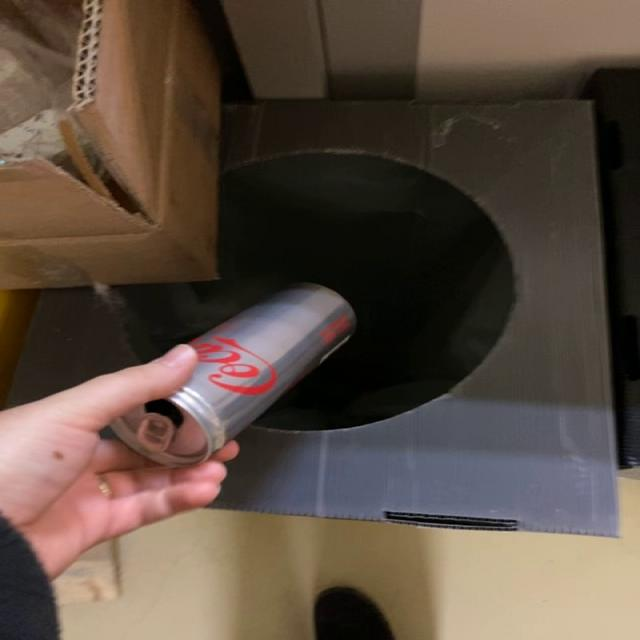metal: (112, 284, 356, 466)
